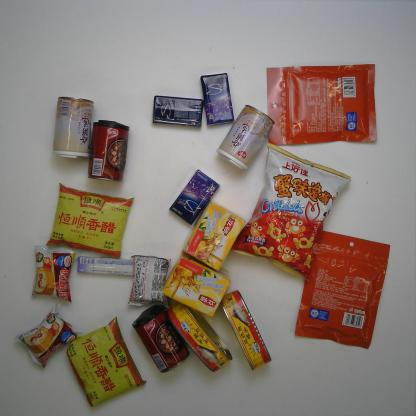Candy: (76, 256, 136, 276)
Canned Food: (165, 300, 234, 372), (220, 288, 272, 374), (132, 303, 191, 375), (215, 104, 274, 173), (87, 119, 131, 183), (52, 96, 94, 160)
Dessert: (13, 303, 83, 369), (30, 244, 78, 304), (126, 254, 172, 308)
Dried Fruit: (294, 229, 392, 350), (266, 63, 378, 146)
Gum: (168, 169, 220, 225), (200, 72, 235, 126), (152, 95, 205, 127)
Instant Drink: (181, 199, 246, 272), (162, 250, 231, 318)
Puffed Food: (229, 142, 353, 282)
Seasoner: (65, 316, 147, 408), (46, 182, 134, 259)
